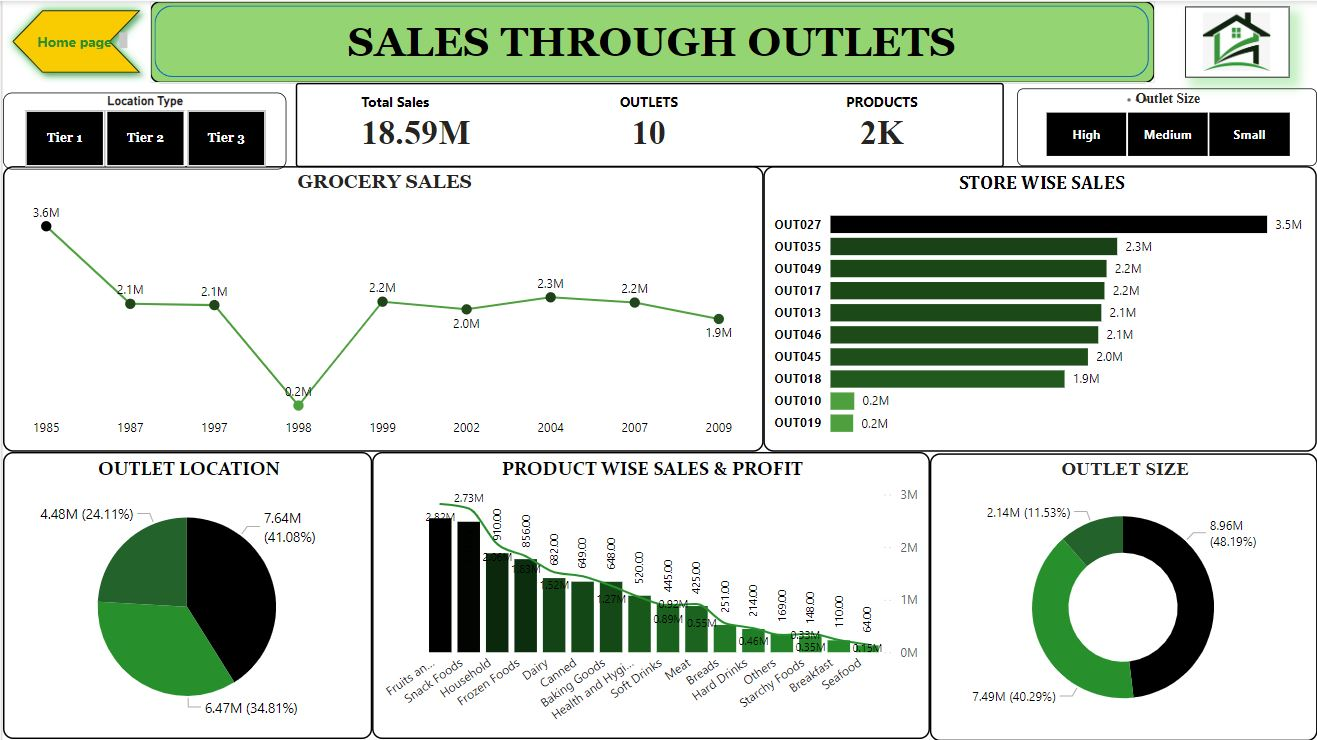

Layout of this report page (visuals, bound fields, positions):
{"tool":"powerbi","page":{"name":"REPORT TWO","canvas":[1280,720],"ordinal":2},"visuals":[{"type":"lineChart","title":"GROCERY SALES","fields":{"Category":["BlinkIT Grocery.Outlet_Establishment_Year"],"Y":["BlinkIT Grocery.Total Sales"]},"box":[0,160.8,740.6,278.4],"z":0},{"type":"clusteredBarChart","title":" STORE WISE SALES","fields":{"Category":["BlinkIT Grocery.Outlet_Identifier"],"Y":["BlinkIT Grocery.Total Sales"]},"box":[740.6,160.8,539.3,278.4],"z":1000},{"type":"pieChart","title":"OUTLET LOCATION ","fields":{"Category":["BlinkIT Grocery.Outlet_Location_Type"],"Y":["BlinkIT Grocery.Total Sales"]},"box":[0,439.2,359.5,279.8],"z":2000},{"type":"donutChart","title":"OUTLET SIZE","fields":{"Category":["BlinkIT Grocery.Outlet_Size"],"Y":["BlinkIT Grocery.Total Sales"]},"box":[902.9,439.9,377.7,280.2],"z":3000},{"type":"lineStackedColumnComboChart","title":"PRODUCT WISE SALES & PROFIT","fields":{"Category":["BlinkIT Grocery.Item_Type"],"Y2":["BlinkIT Grocery.Total Sales"],"Y":["CountNonNull(BlinkIT Grocery.Item_Identifier)"]},"box":[359.5,439.2,543.3,279.8],"z":4000},{"type":"shape","title":"STOTE","box":[143.3,0,978.5,79.7],"z":5000},{"type":"pageNavigator","box":[0,0,143.3,79.7],"z":6000},{"type":"textbox","box":[20.3,25.8,105.8,25.8],"z":7000},{"type":"slicer","title":"Location Type","fields":{"Values":["BlinkIT Grocery.Outlet_Location_Type"]},"box":[0,89.2,275.7,75],"z":8000},{"type":"cardVisual","fields":{"Data":["BlinkIT Grocery.Total Sales","BlinkIT Grocery.Outlet no","BlinkIT Grocery.PRODUCTS"]},"box":[284.6,79.3,689.5,82.1],"z":9000},{"type":"slicer","title":"Outlet Size","fields":{"Values":["BlinkIT Grocery.Outlet_Size"]},"box":[987.5,85.5,291.6,76],"z":10000},{"type":"image","box":[1151.5,5.4,101.4,68.9],"z":11000}]}

Visuals, with their boxes in screenshot pixels (x1, y1, x2, y2), scaled from the page's 1280x720 canvas onto the 1317x740 screenshot:
"GROCERY SALES" lineChart: crop(0, 165, 762, 451)
" STORE WISE SALES" clusteredBarChart: crop(762, 165, 1316, 451)
"OUTLET LOCATION " pieChart: crop(0, 451, 370, 739)
"OUTLET SIZE" donutChart: crop(929, 452, 1316, 739)
"PRODUCT WISE SALES & PROFIT" lineStackedColumnComboChart: crop(370, 451, 929, 739)
"STOTE" shape: crop(147, 0, 1154, 82)
pageNavigator: crop(0, 0, 147, 82)
textbox: crop(21, 27, 130, 53)
"Location Type" slicer: crop(0, 92, 284, 169)
cardVisual - BlinkIT Grocery.Total Sales x BlinkIT Grocery.Outlet no: crop(293, 82, 1002, 166)
"Outlet Size" slicer: crop(1016, 88, 1316, 166)
image: crop(1185, 6, 1289, 76)
